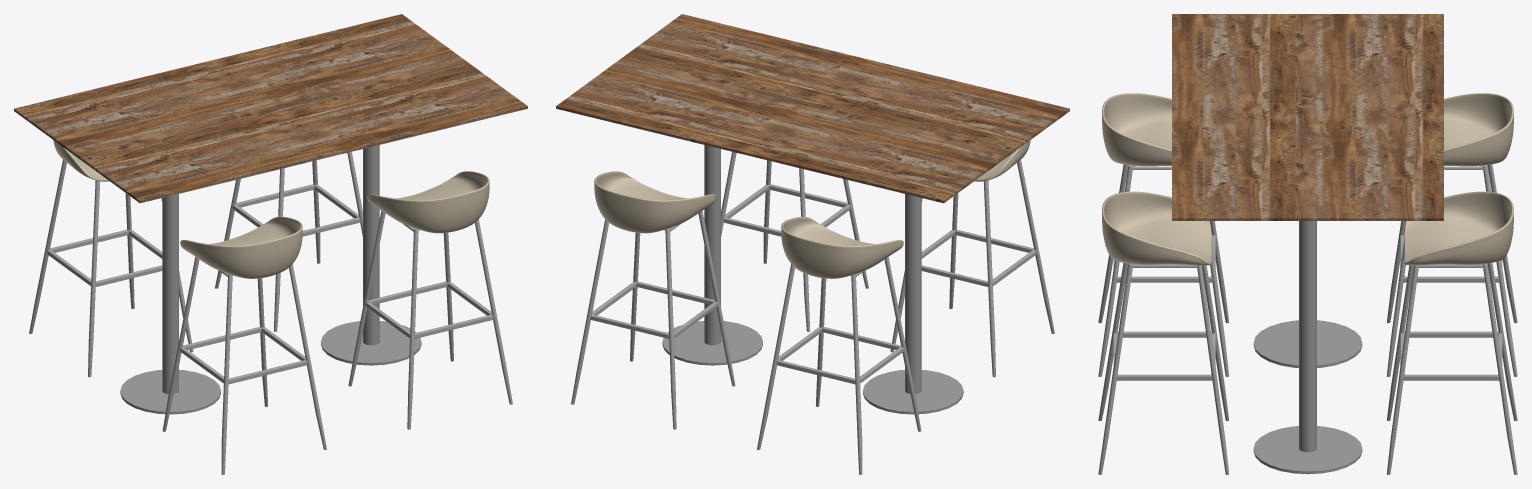
Rendered from 四人桌椅组合.glb.
The picture shows the model from 3 angles, left to right: view 1: azimuth 30°, elevation 25°; view 2: azimuth 150°, elevation 25°; view 3: azimuth 270°, elevation 25°; orthographic projection. The views are drawn at different scales.
Parts seen in each view (by area): view 1: Geom3D (×14); view 2: Geom3D (×14); view 3: Geom3D (×15).
Boxes of the visible parts, box(x1,y1,x2,y2) form: Geom3D (×14): box(14, 14, 527, 474); Geom3D (×14): box(556, 14, 1069, 474); Geom3D (×15): box(1098, 14, 1517, 474).
Size of the model in its own units: 1.6 by 1.03 by 1.39.
4 materials, 1 textured.
